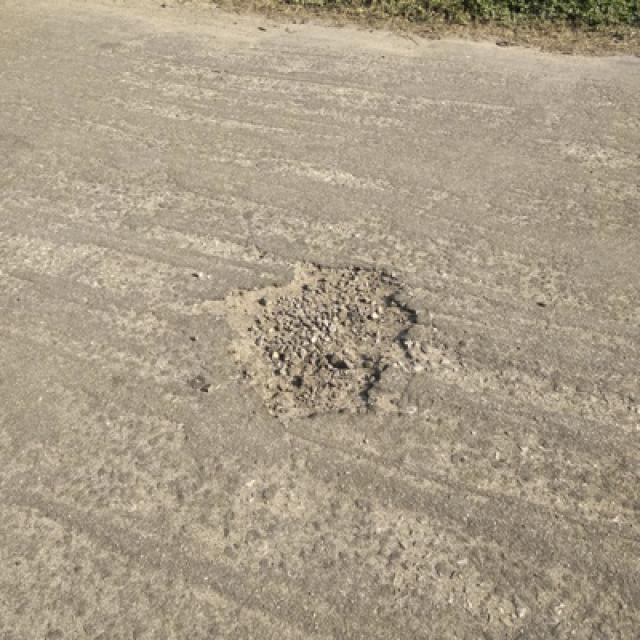jalan_berlubang: (219, 249, 441, 406)
